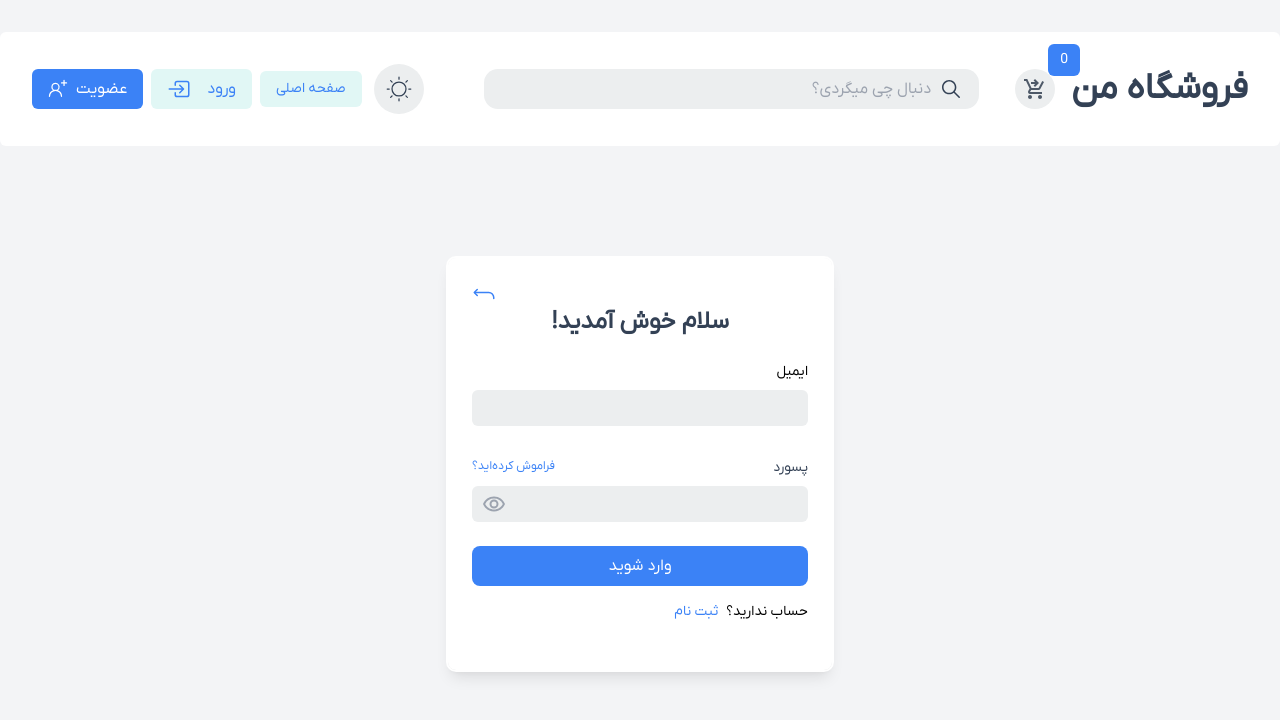
Scenario: Login test › error via empty fields
Expected: the text "! پر کردن این فیلد الزامی است" is not shown
Click the button with test id "log-button" at x=640, y=566, box [472,546,808,586]
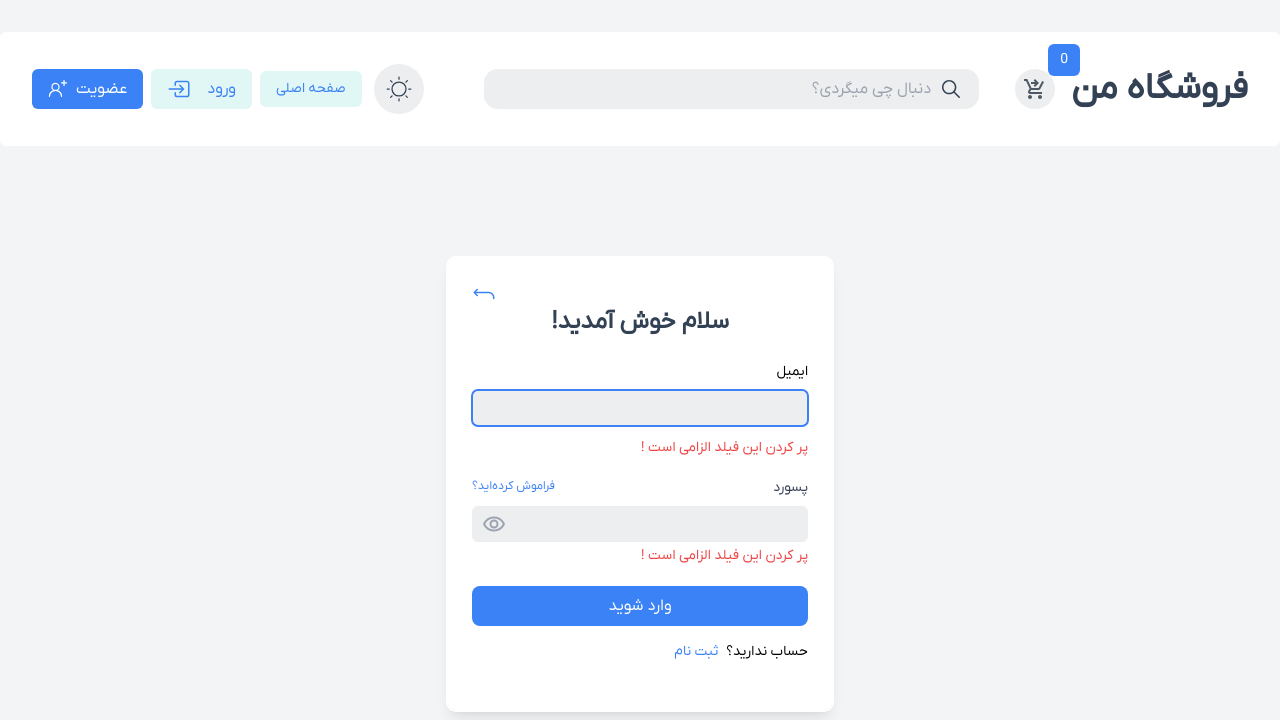
Expected: the 1st heading "! پر کردن این فیلد الزامی است" is shown, [641,438,808,457]
